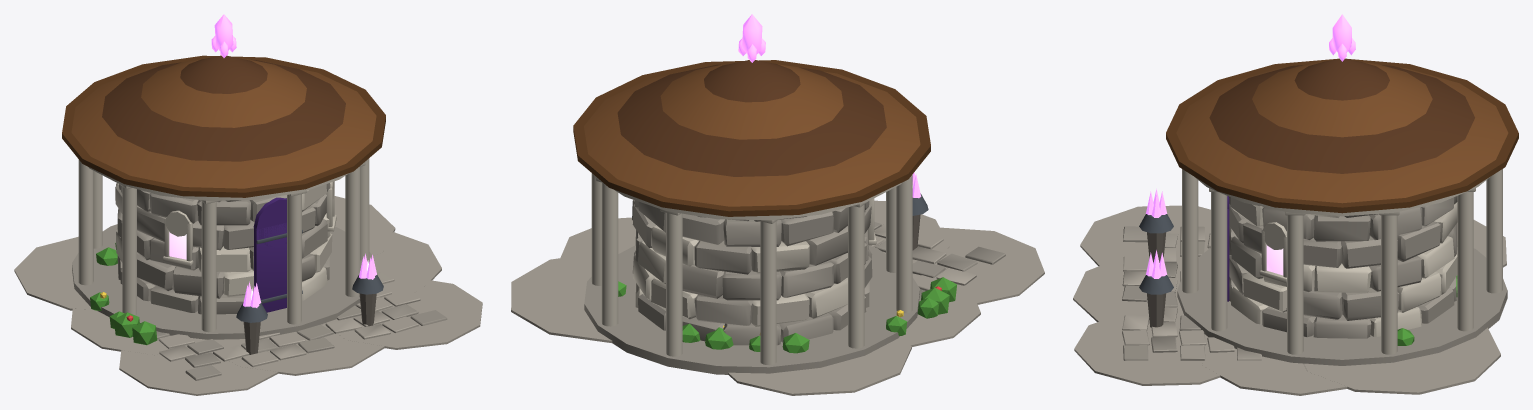
The model's file is budynek_fuzji_poz11.glb.
The picture shows the model from 3 angles, left to right: view 1: azimuth 30°, elevation 25°; view 2: azimuth 150°, elevation 25°; view 3: azimuth 270°, elevation 25°; orthographic projection. The views are drawn at different scales.
Visible parts, largest first — view 1: budynek_fuzji_poz11; view 2: budynek_fuzji_poz11; view 3: budynek_fuzji_poz11.
Part boxes in pixels (x1,y1,x2,y2): budynek_fuzji_poz11: [14, 14, 482, 395]; budynek_fuzji_poz11: [511, 14, 1044, 395]; budynek_fuzji_poz11: [1073, 14, 1518, 395].
Bounding box in the file's own units: 8.65 × 6.21 × 8.64.
